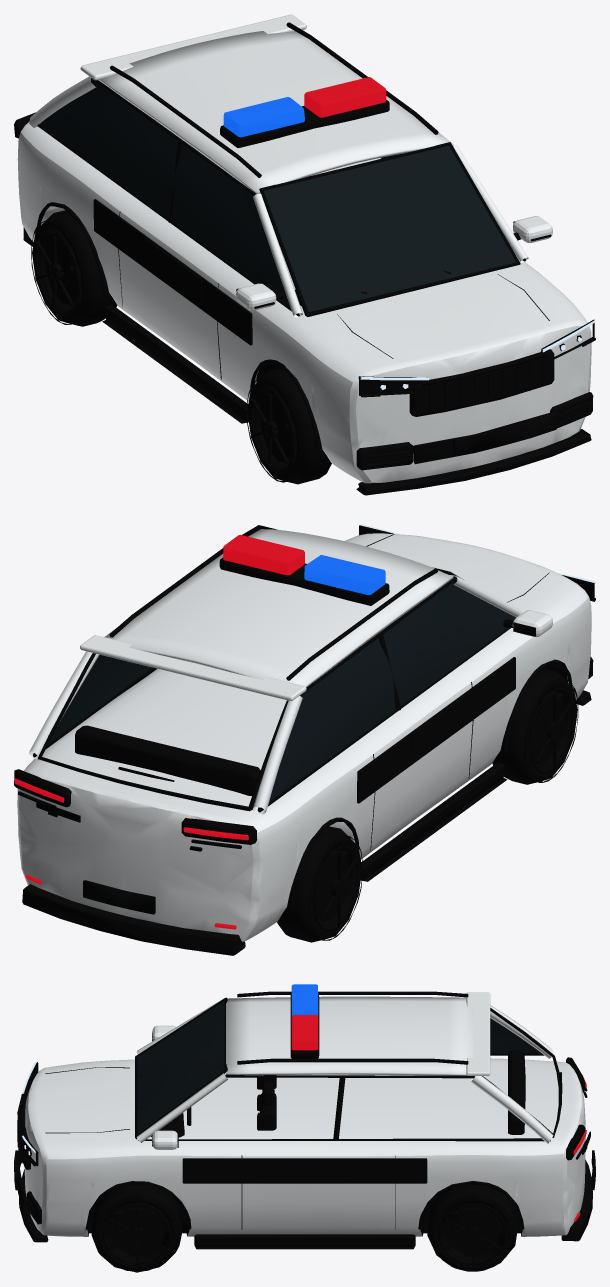
Rendered from police-mid.glb.
3 views of the same model, one above another, from view 1: azimuth 30°, elevation 25°; view 2: azimuth 150°, elevation 25°; view 3: azimuth 270°, elevation 25° (orthographic). The views are drawn at different scales.
Parts seen in each view (by area): view 1: chassis.001__Automotive clearcoat, chassis.001__Solar glass, chassis.001__Vehicle detail atlas, wheel_FL.001__Vehicle detail atlas, wheel_RL.001__Vehicle detail atlas, chassis.001__Red LED optics, chassis.001__Police blue LED; view 2: chassis.001__Automotive clearcoat, chassis.001__Vehicle detail atlas, chassis.001__Solar glass, wheel_RL.001__Vehicle detail atlas, wheel_FL.001__Vehicle detail atlas, chassis.001__Red LED optics, chassis.001__Police blue LED; view 3: chassis.001__Automotive clearcoat, chassis.001__Vehicle detail atlas, chassis.001__Solar glass, wheel_FR.001__Vehicle detail atlas, wheel_RR.001__Vehicle detail atlas, chassis.001__Red LED optics, chassis.001__Police blue LED.
Boxes of the visible parts, bbox=[...] form: chassis.001__Automotive clearcoat: bbox=[17, 14, 591, 483]; chassis.001__Solar glass: bbox=[40, 82, 516, 314]; chassis.001__Vehicle detail atlas: bbox=[14, 22, 594, 495]; wheel_FL.001__Vehicle detail atlas: bbox=[246, 367, 331, 484]; wheel_RL.001__Vehicle detail atlas: bbox=[31, 210, 117, 326]; chassis.001__Red LED optics: bbox=[304, 77, 386, 117]; chassis.001__Police blue LED: bbox=[223, 97, 304, 137]; chassis.001__Automotive clearcoat: bbox=[17, 529, 591, 941]; chassis.001__Vehicle detail atlas: bbox=[14, 525, 594, 955]; chassis.001__Solar glass: bbox=[48, 582, 515, 801]; wheel_RL.001__Vehicle detail atlas: bbox=[277, 826, 362, 942]; wheel_FL.001__Vehicle detail atlas: bbox=[492, 668, 578, 784]; chassis.001__Red LED optics: bbox=[14, 534, 304, 929]; chassis.001__Police blue LED: bbox=[304, 555, 385, 595]; chassis.001__Automotive clearcoat: bbox=[24, 992, 585, 1236]; chassis.001__Vehicle detail atlas: bbox=[14, 991, 595, 1249]; chassis.001__Solar glass: bbox=[137, 1000, 541, 1134]; wheel_FR.001__Vehicle detail atlas: bbox=[91, 1184, 182, 1272]; wheel_RR.001__Vehicle detail atlas: bbox=[427, 1184, 518, 1271]; chassis.001__Red LED optics: bbox=[291, 1015, 586, 1221]; chassis.001__Police blue LED: bbox=[291, 984, 318, 1016].
Bounding box in the file's own units: 2.19 × 1.85 × 4.63.
Materials: 9 (7 with a texture image).
